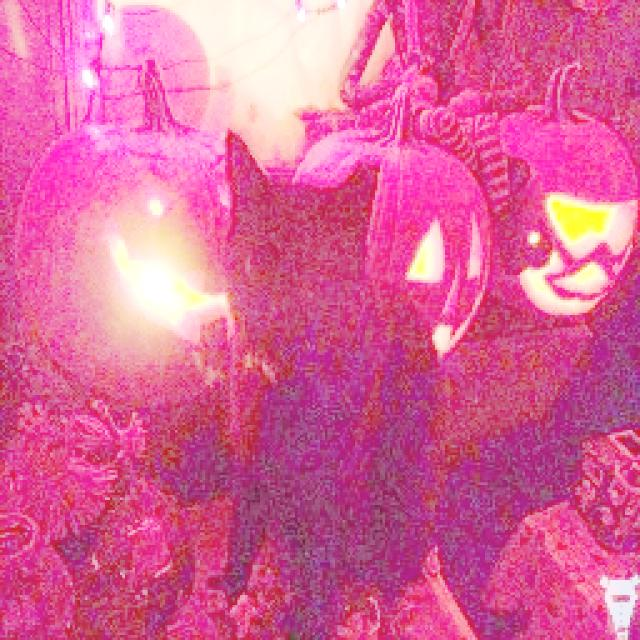cat: (212, 120, 436, 623)
